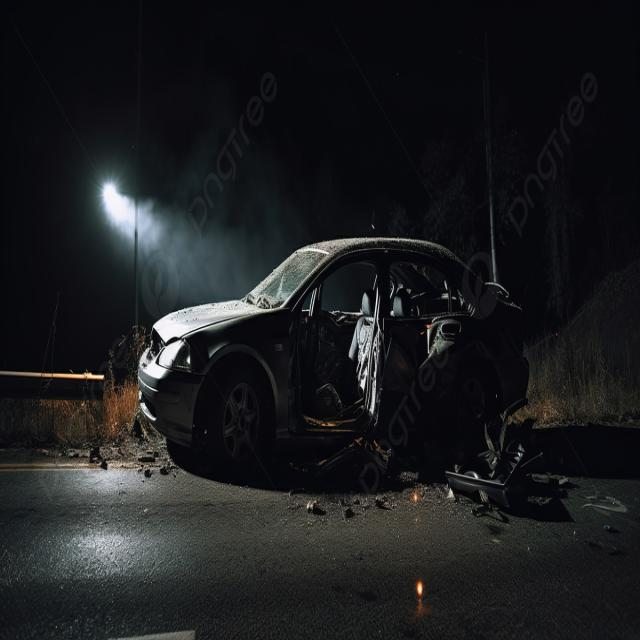Accident: (136, 240, 534, 498)
